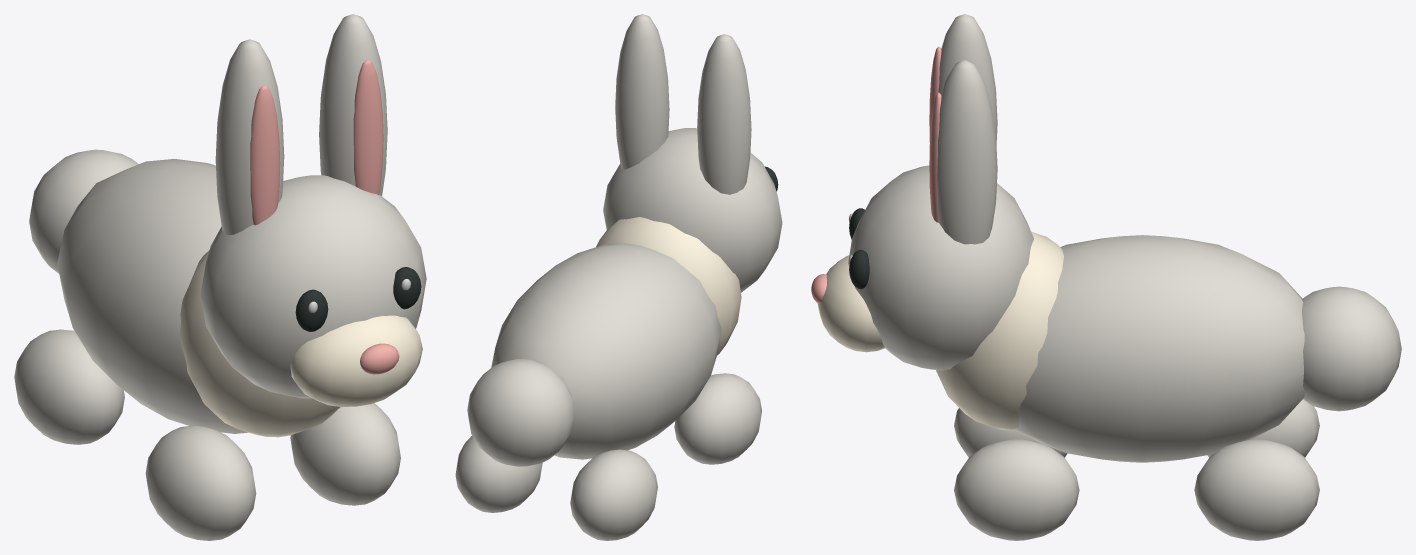
File: rabbit.glb
3 renders of one model, left to right at view 1: azimuth 30°, elevation 25°; view 2: azimuth 150°, elevation 25°; view 3: azimuth 270°, elevation 25°, orthographic. The views are drawn at different scales.
Parts seen in each view (by area): view 1: body.002, head.002, paw.008, paw.009, chest.002, paw.010, muzzle.002, ear.004, ear.005, tail.002, inner_ear, inner_ear.001 (+3 smaller); view 2: body.002, head.002, tail.002, ear.004, ear.005, paw.009, paw.008, chest.002, paw.011; view 3: body.002, head.002, chest.002, tail.002, paw.010, paw.011, ear.005, muzzle.002, ear.004, paw.009, paw.008, inner_ear.001.
Boxes of the visible parts, x1,y1,x2,y2 form: body.002: (57,159,247,433); head.002: (200,175,426,398); paw.008: (145,425,256,540); paw.009: (14,329,124,444); chest.002: (179,250,340,437); paw.010: (290,403,400,505); muzzle.002: (290,315,422,406); ear.004: (215,39,284,234); ear.005: (319,14,387,195); tail.002: (29,149,138,273); inner_ear: (250,85,280,225); inner_ear.001: (353,59,383,194); body.002: (491,243,721,459); head.002: (603,128,782,292); tail.002: (467,359,574,466); ear.004: (697,34,751,194); ear.005: (615,14,669,169); paw.009: (570,449,657,540); paw.008: (674,373,761,464); chest.002: (596,217,741,355); paw.011: (455,436,542,512); body.002: (1015,235,1304,462); head.002: (848,165,1033,370); chest.002: (936,231,1063,430); tail.002: (1302,286,1401,411); paw.010: (954,439,1079,540); paw.011: (1194,439,1319,540); ear.005: (937,60,997,244); muzzle.002: (817,255,884,352); ear.004: (938,14,997,144); paw.009: (1207,399,1319,457); paw.008: (954,408,1067,457); inner_ear.001: (929,92,941,222).
Size of the model in its own units: 0.9 by 1.89 by 2.16.
